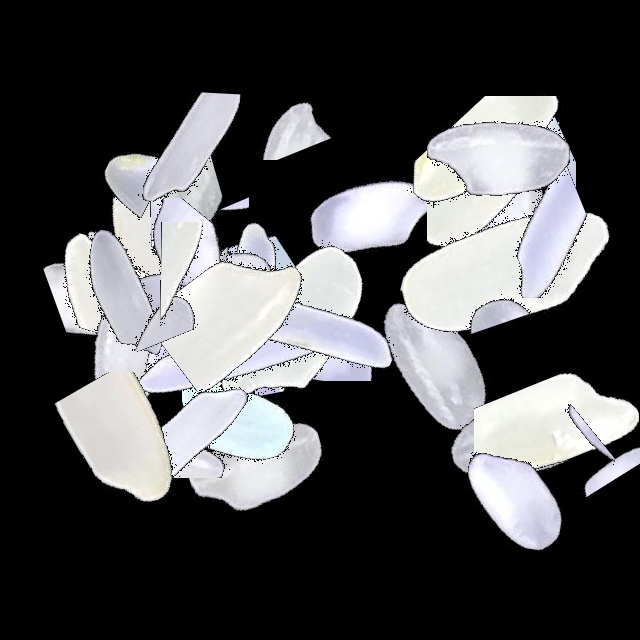Broken: (153, 180, 323, 430), (80, 207, 330, 376), (108, 50, 275, 300), (419, 74, 585, 324), (474, 339, 639, 589), (4, 372, 254, 536), (390, 96, 640, 250), (30, 198, 280, 350), (2, 211, 252, 359), (427, 91, 574, 341), (204, 234, 454, 381), (182, 266, 325, 516), (390, 156, 640, 298), (24, 125, 274, 264), (9, 204, 259, 341), (106, 224, 356, 356), (42, 350, 292, 478), (449, 51, 576, 301), (88, 156, 338, 282), (41, 42, 159, 292), (0, 235, 250, 351), (78, 153, 188, 403), (122, 236, 232, 486), (90, 222, 340, 332), (141, 51, 391, 160), (535, 309, 640, 559), (522, 350, 615, 600), (440, 154, 533, 404), (207, 159, 290, 409), (168, 133, 249, 383), (79, 331, 329, 406)
Full: (309, 239, 559, 489), (374, 109, 624, 359), (243, 91, 493, 341), (390, 105, 640, 355), (119, 162, 369, 412), (130, 343, 380, 593), (36, 142, 286, 392), (130, 176, 380, 426), (390, 317, 640, 567), (0, 231, 250, 481), (125, 174, 375, 424), (43, 182, 293, 432), (379, 145, 629, 395), (170, 204, 420, 454), (112, 230, 362, 480), (175, 200, 425, 450), (390, 376, 640, 626), (58, 312, 308, 562), (0, 167, 250, 417)
